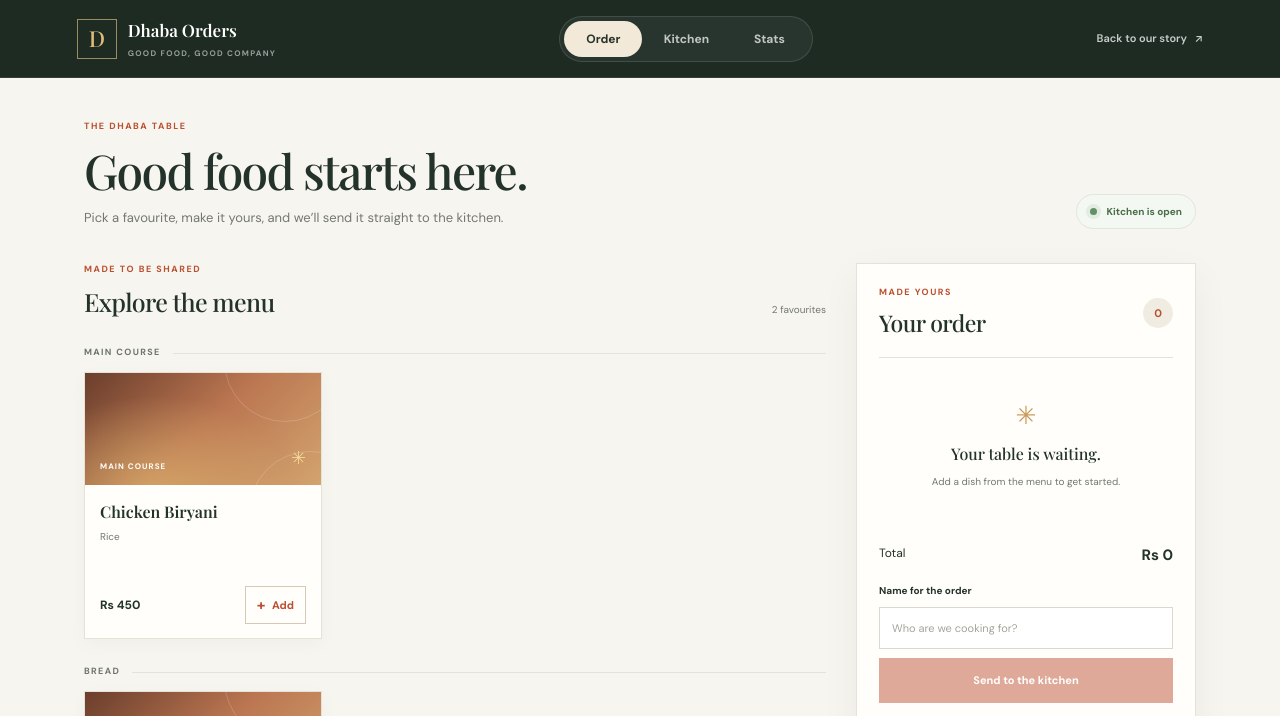
Test case: shows the menu and adds an item to the cart
Expected: the text "Chicken Biryani" is shown, x1=100 y1=501 x2=218 y2=522
Click the button "+ Add" at {"x": 275, "y": 605}, box x1=245 y1=586 x2=306 y2=624
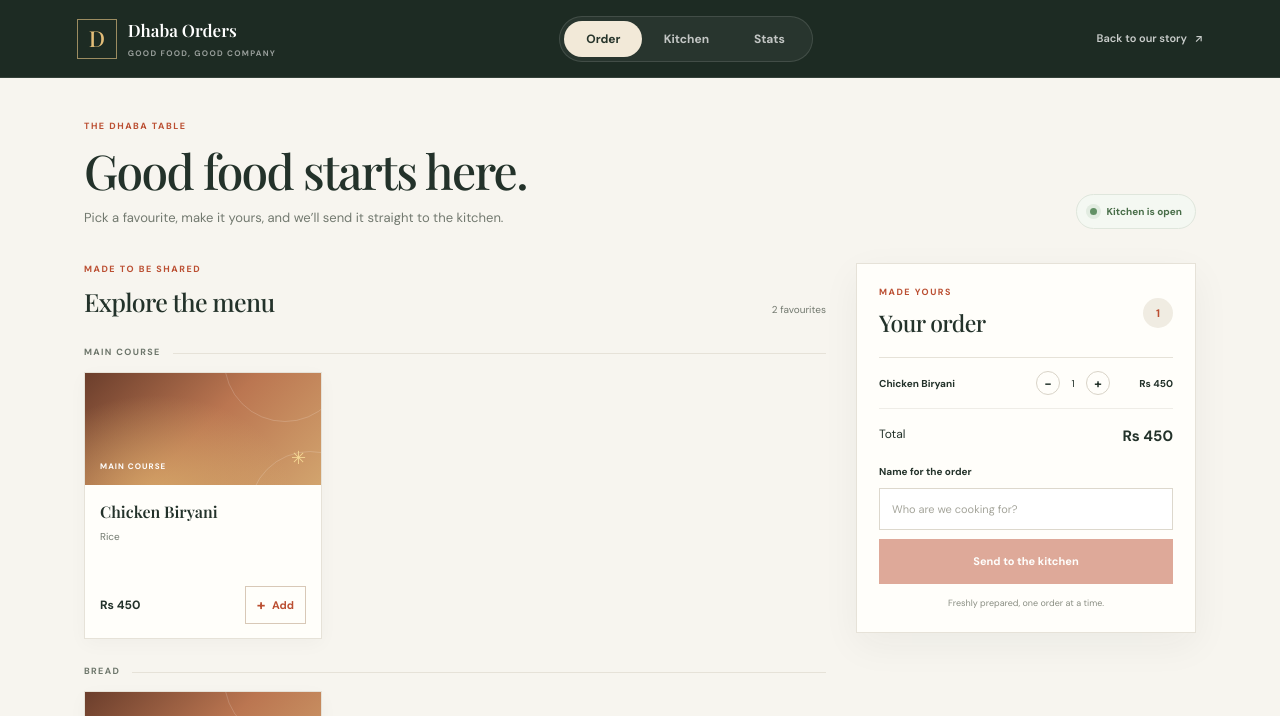
Expected: the 1st text "Rs 450" is shown, x1=1139 y1=377 x2=1173 y2=390
